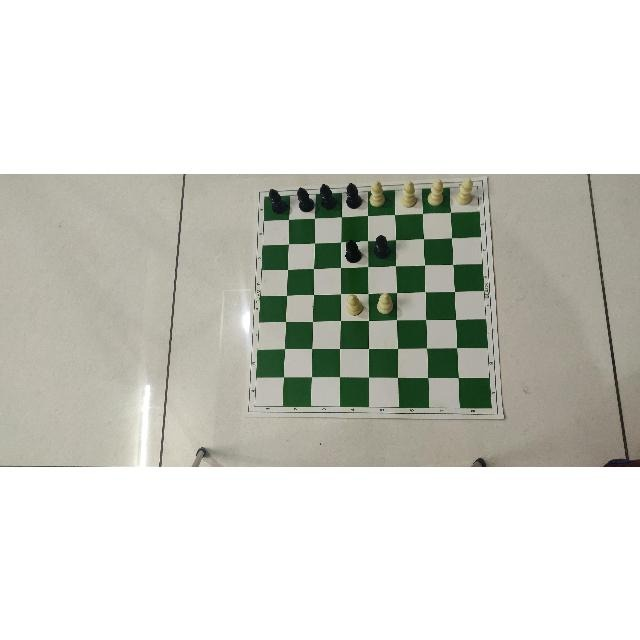black-bishop: (295, 185, 314, 213), (267, 188, 287, 214), (319, 182, 337, 210), (345, 236, 363, 262), (373, 233, 391, 258), (346, 180, 362, 207)
white-bishop: (454, 176, 474, 204), (427, 178, 446, 206), (399, 179, 416, 207), (369, 178, 384, 207), (346, 293, 364, 314), (377, 292, 393, 314)
